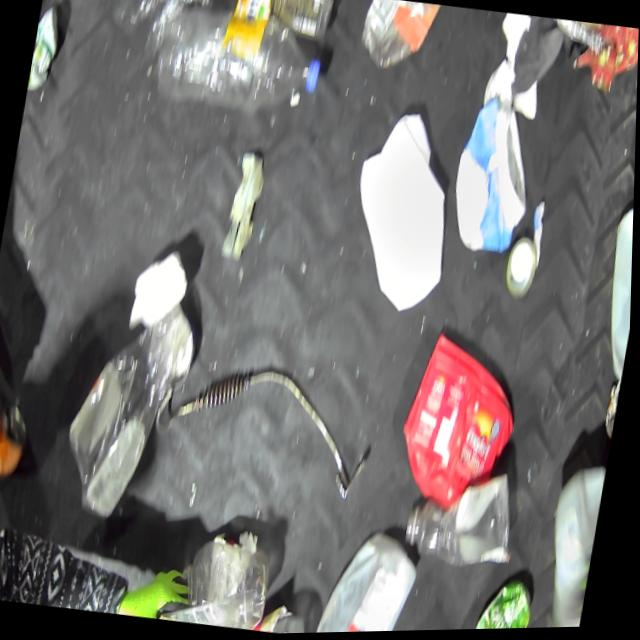can: (467, 572, 539, 632), (27, 3, 65, 97), (0, 399, 35, 486), (502, 234, 542, 305), (602, 382, 624, 446)
milk_jug: (339, 105, 470, 321), (312, 523, 427, 634), (537, 460, 609, 630), (588, 205, 635, 404)
plastic_bottle: (150, 0, 330, 128), (403, 460, 529, 576)
